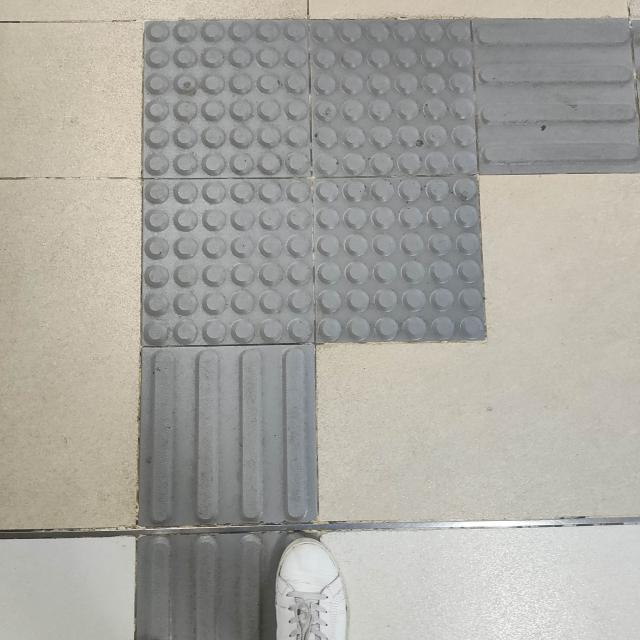kanan: (86, 4, 640, 421)
